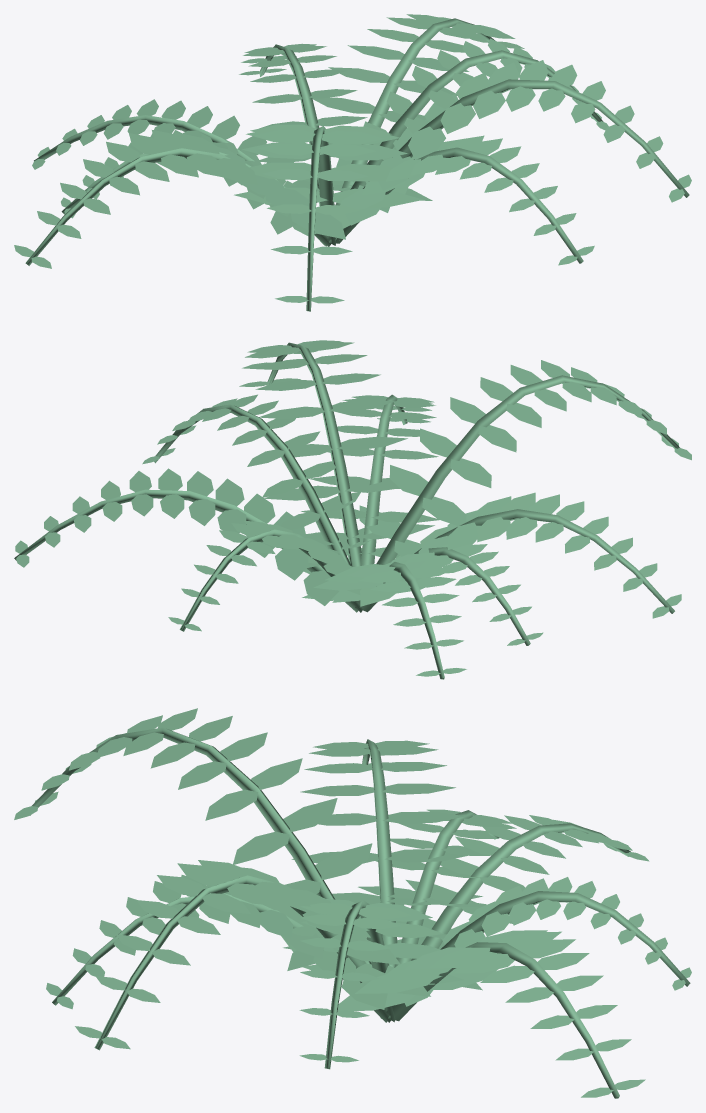
Rendered from fern_A.glb.
3 renders of one model, top to bottom at view 1: azimuth 30°, elevation 25°; view 2: azimuth 150°, elevation 25°; view 3: azimuth 270°, elevation 25°, orthographic. The views are drawn at different scales.
Visible parts, largest first — view 1: fern_A; view 2: fern_A; view 3: fern_A.
Boxes of the visible parts, box(x1,y1,x2,y2) form: fern_A: box(14, 14, 691, 311); fern_A: box(14, 340, 691, 679); fern_A: box(14, 708, 691, 1098).
Bounding box in the file's own units: 0.9999 × 0.3247 × 0.8647.
